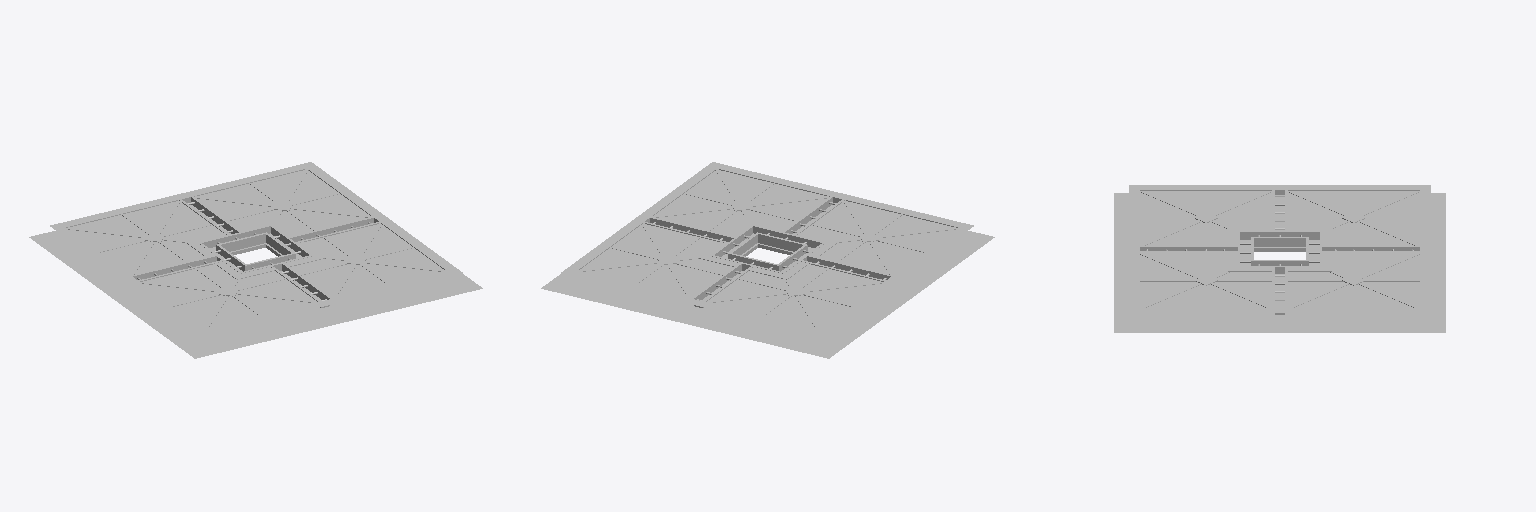
The model's file is WallHyper_mid.obj.
3 views of the same model, side by side, from view 1: azimuth 30°, elevation 25°; view 2: azimuth 150°, elevation 25°; view 3: azimuth 270°, elevation 25° (orthographic).
Parts seen in each view (by area): view 1: PanelLight_Low_Cube.013, wall_Cube.002, frame_Cube.006, front_Cube.009; view 2: PanelLight_Low_Cube.013, wall_Cube.002, frame_Cube.006, front_Cube.009; view 3: PanelLight_Low_Cube.013, wall_Cube.002, frame_Cube.006, front_Cube.009.
Boxes of the visible parts, box(x1,y1,x2,y2) form: PanelLight_Low_Cube.013: box(69, 170, 443, 328); wall_Cube.002: box(29, 167, 482, 358); frame_Cube.006: box(50, 162, 462, 335); front_Cube.009: box(145, 202, 366, 296); PanelLight_Low_Cube.013: box(580, 170, 954, 328); wall_Cube.002: box(541, 167, 994, 358); frame_Cube.006: box(561, 162, 973, 335); front_Cube.009: box(657, 202, 878, 296); PanelLight_Low_Cube.013: box(1140, 191, 1419, 307); wall_Cube.002: box(1114, 189, 1445, 332); frame_Cube.006: box(1129, 185, 1430, 314); front_Cube.009: box(1195, 213, 1364, 285).
Bounding box in the file's own units: 2.2 × 0.1 × 2.2.